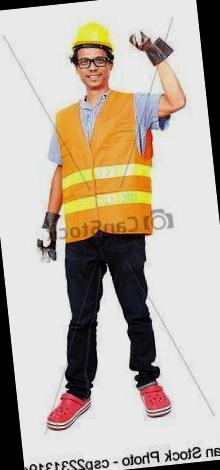helmet: (66, 21, 122, 60)
person: (0, 14, 202, 436)
